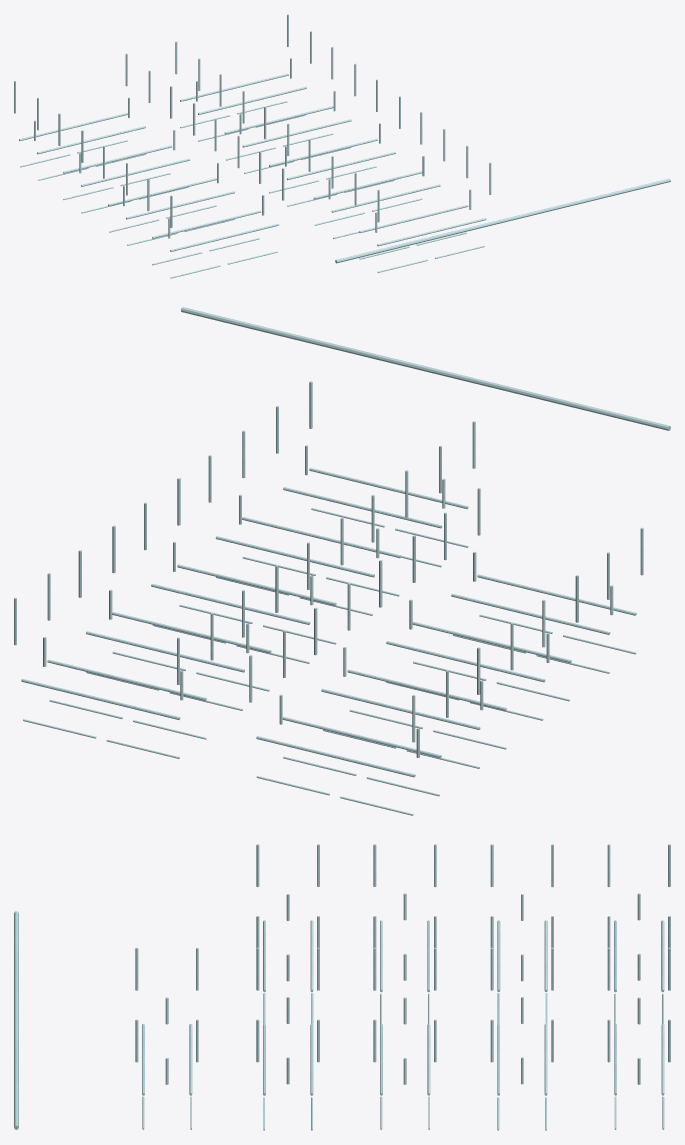
Rendered from resto_ni_teo_5.obj.
The picture shows the model from 3 angles, top to bottom: view 1: azimuth 30°, elevation 25°; view 2: azimuth 150°, elevation 25°; view 3: azimuth 270°, elevation 25°; orthographic projection. The views are drawn at different scales.
Bounding box in the file's own units: 11.32 × 2.26 × 12.
